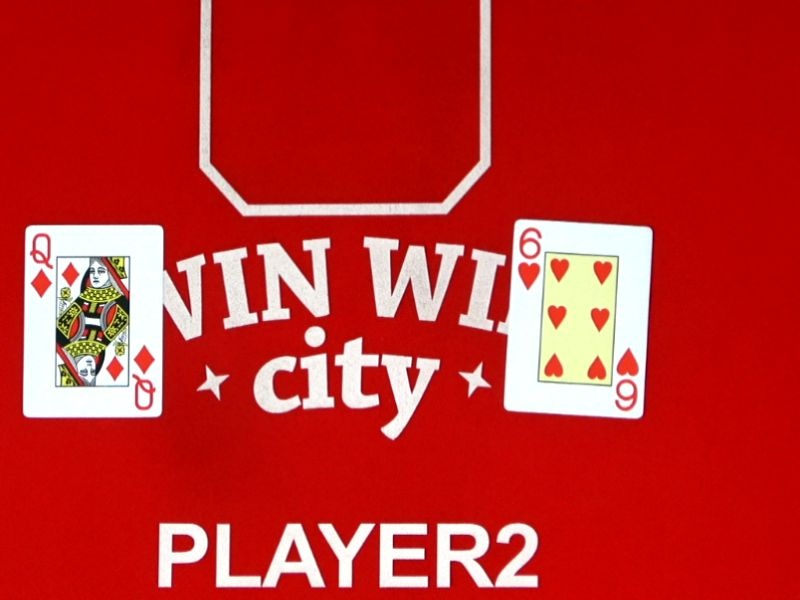6H: (589, 345, 665, 415), (492, 223, 567, 292)
QD: (108, 345, 184, 413), (4, 231, 77, 298)
